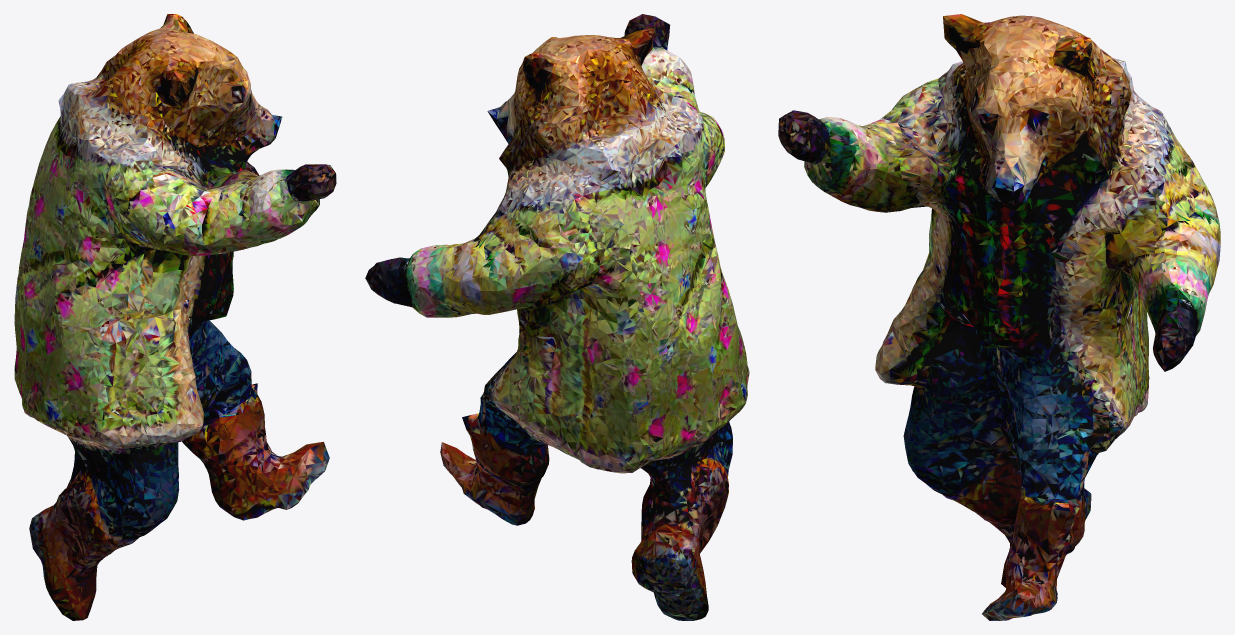
Rendered from bear_dancing-canny.glb.
3 renders of one model, left to right at view 1: azimuth 30°, elevation 25°; view 2: azimuth 150°, elevation 25°; view 3: azimuth 270°, elevation 25°, orthographic. The views are drawn at different scales.
Parts seen in each view (by area): view 1: extracted_mesh; view 2: extracted_mesh; view 3: extracted_mesh.
Boxes of the visible parts, x1,y1,x2,y2 form: extracted_mesh: [14, 14, 336, 620]; extracted_mesh: [365, 14, 749, 620]; extracted_mesh: [778, 14, 1220, 620].
Size of the model in its own units: 0.6337 by 1.13 by 0.7309.
1 material, 1 textured.
